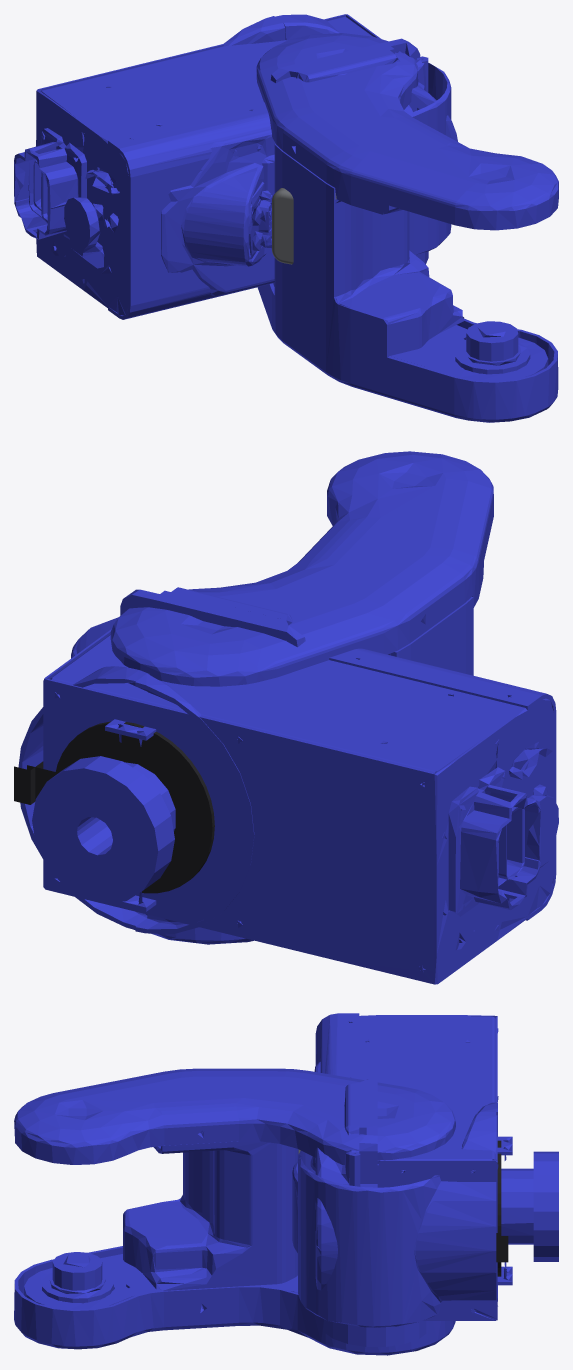
The model's file is arm.glb.
The picture shows the model from 3 angles, top to bottom: view 1: azimuth 30°, elevation 25°; view 2: azimuth 150°, elevation 25°; view 3: azimuth 270°, elevation 25°; orthographic projection. The views are drawn at different scales.
Visible parts, largest first — view 1: b3, b1, b5, b2, b14, b4; view 2: b1, b3, b2, b7, b5; view 3: b3, b2, b1, b7, b6.
Boxes of the visible parts, x1,y1,x2,y2 form: b3: (256, 33, 558, 422); b1: (14, 14, 457, 319); b5: (64, 128, 275, 295); b2: (224, 14, 451, 264); b14: (272, 188, 336, 264); b4: (261, 105, 412, 248); b1: (43, 587, 556, 984); b3: (110, 451, 493, 944); b2: (18, 617, 254, 933); b7: (14, 721, 214, 893); b5: (529, 794, 558, 867); b3: (14, 1068, 455, 1355); b2: (298, 1102, 558, 1346); b1: (315, 1013, 498, 1320); b7: (496, 1140, 508, 1276); b6: (292, 1161, 315, 1252).
Size of the model in its own units: 0.23 by 0.137 by 0.2997.
